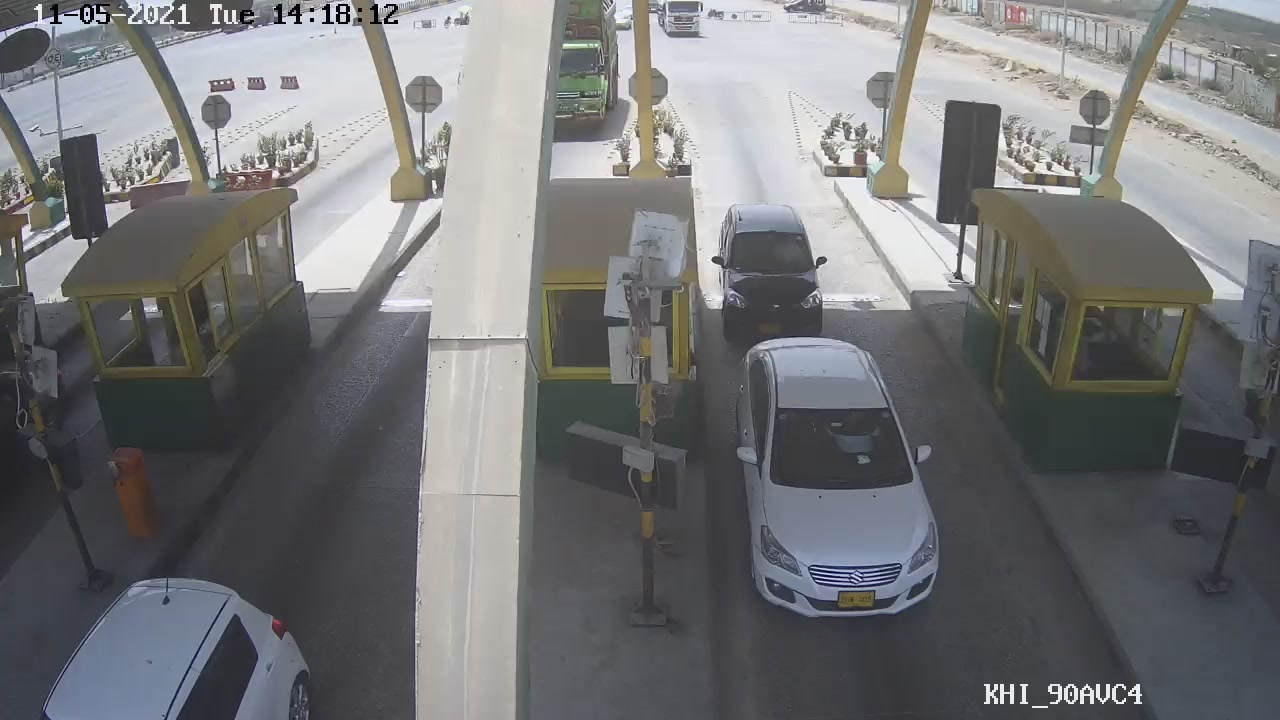F1: (727, 338, 948, 622)
